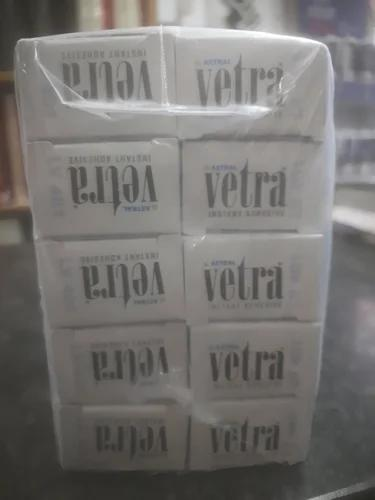VETRA_LV 401: (16, 28, 175, 141), (169, 28, 332, 138), (29, 140, 179, 235), (182, 140, 326, 233), (38, 237, 183, 325), (185, 233, 322, 325), (51, 323, 186, 402), (190, 322, 322, 401), (191, 398, 313, 469), (58, 405, 187, 471), (26, 32, 107, 136), (42, 272, 185, 324), (37, 141, 116, 235), (248, 33, 319, 135), (104, 143, 181, 237), (239, 142, 316, 233), (39, 236, 182, 284), (185, 140, 256, 232), (56, 327, 186, 376), (187, 273, 318, 321), (54, 357, 185, 405), (190, 238, 320, 286), (55, 440, 184, 468), (195, 433, 306, 462)
